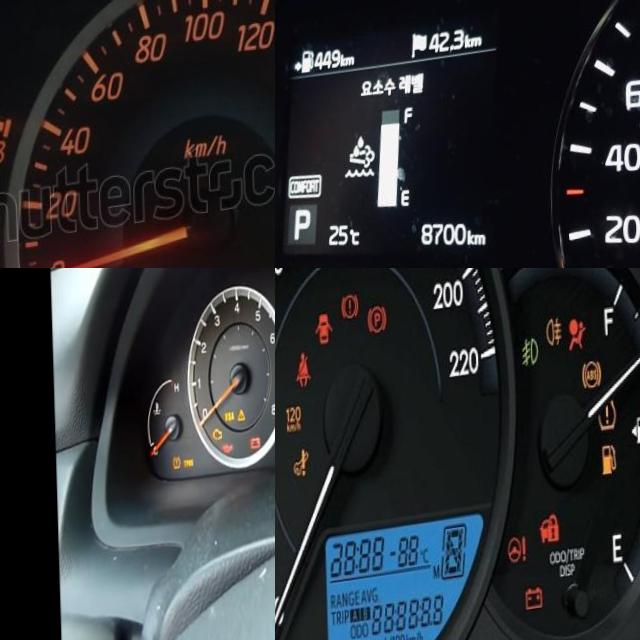Central Warning lamp: (235, 416, 244, 430)
Electronic Power Steering: (505, 551, 523, 578)
Seat Belt: (294, 360, 309, 397)
